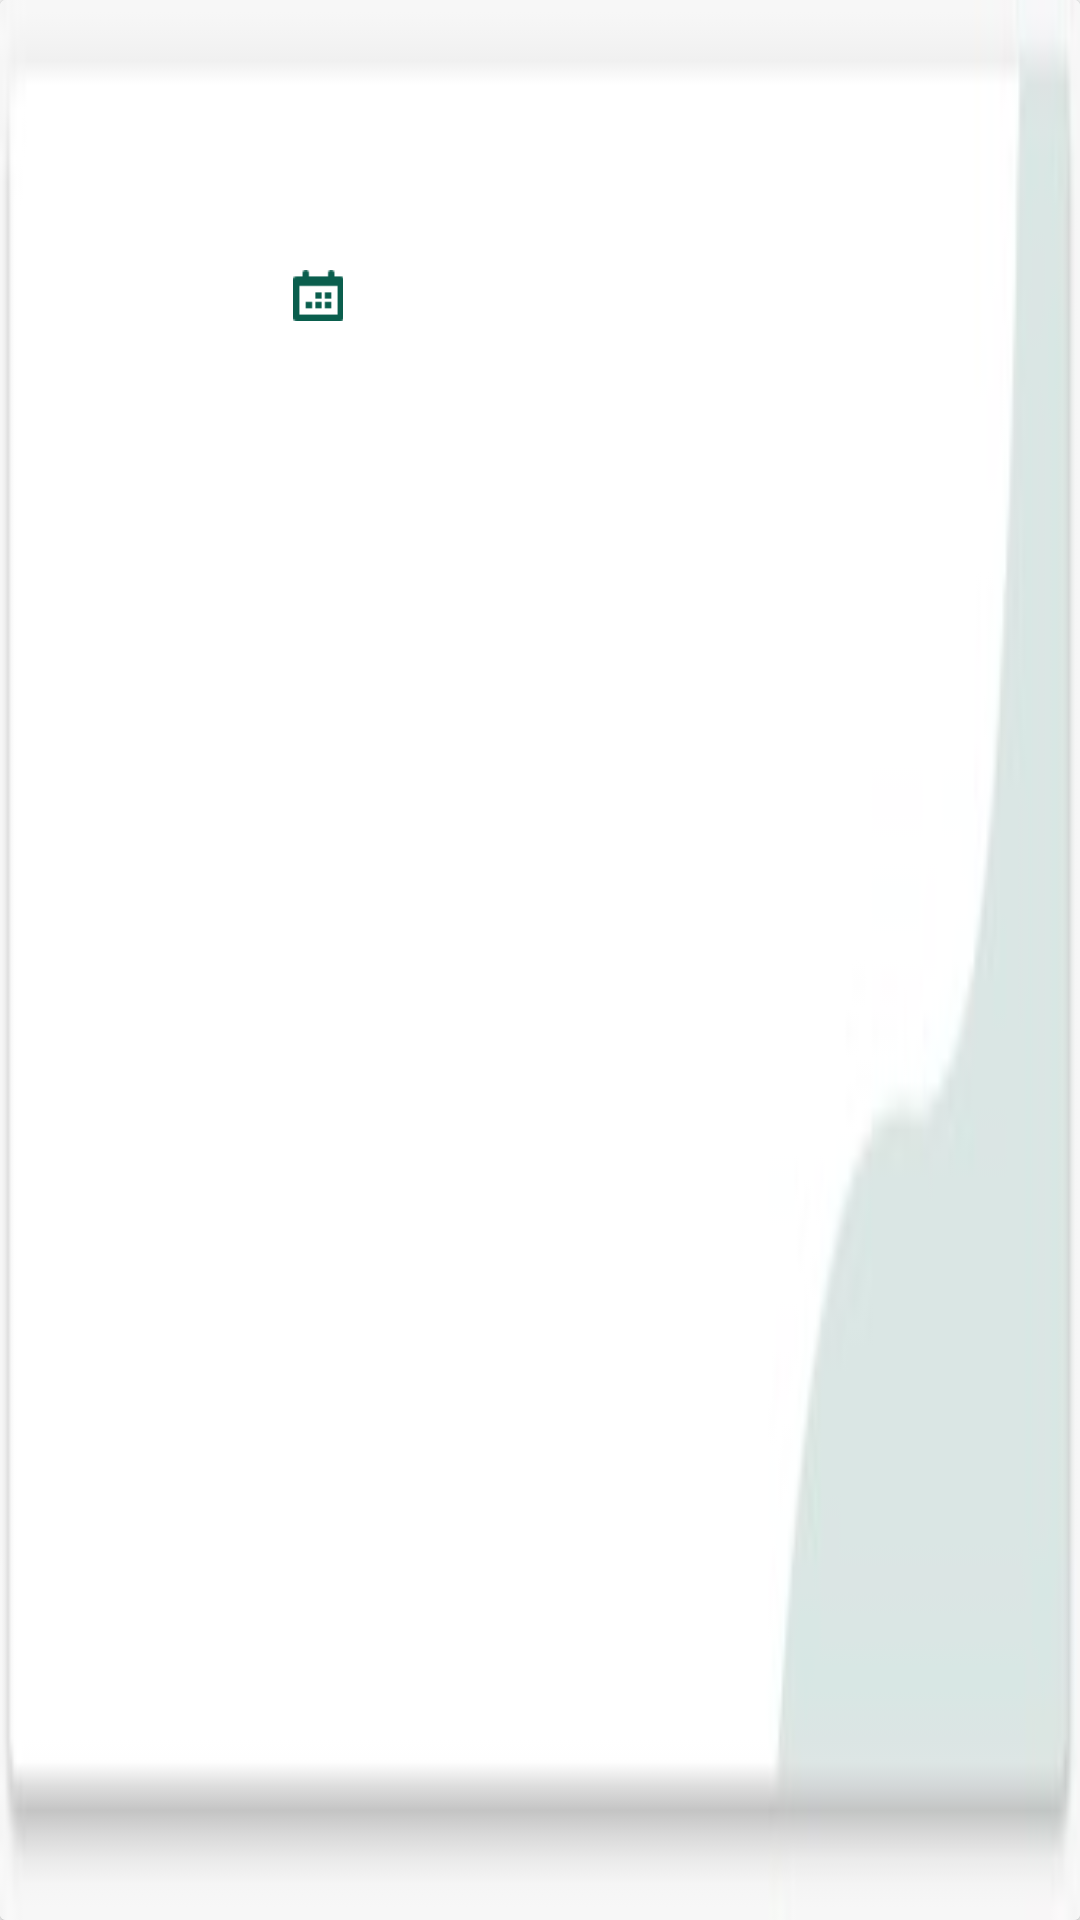

Where to tap for icons on this 1080w x 1920h app screen, as point (x, y):
date: point (318, 295)
